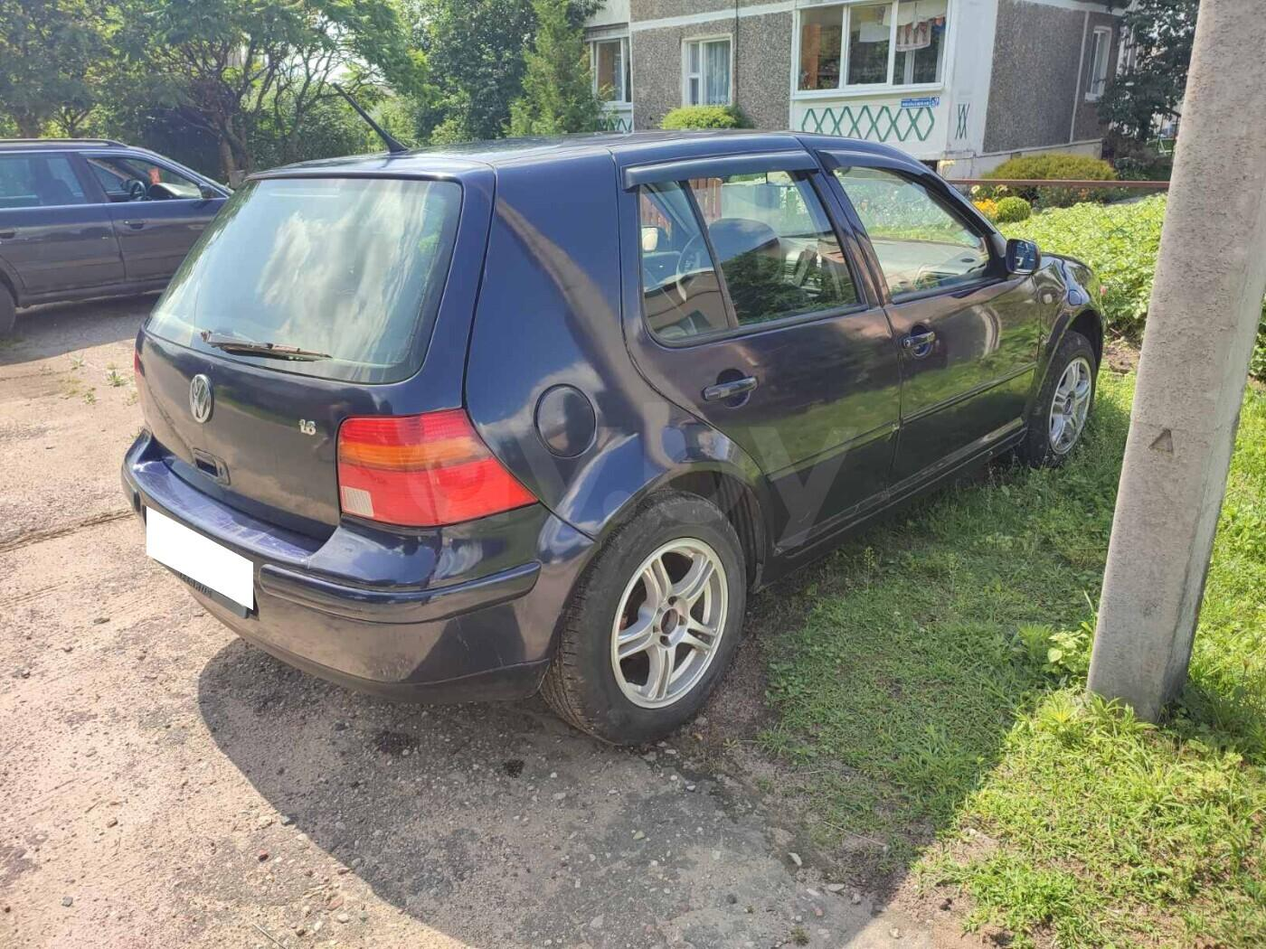Golf_1997-2006: (121, 131, 1105, 744)
